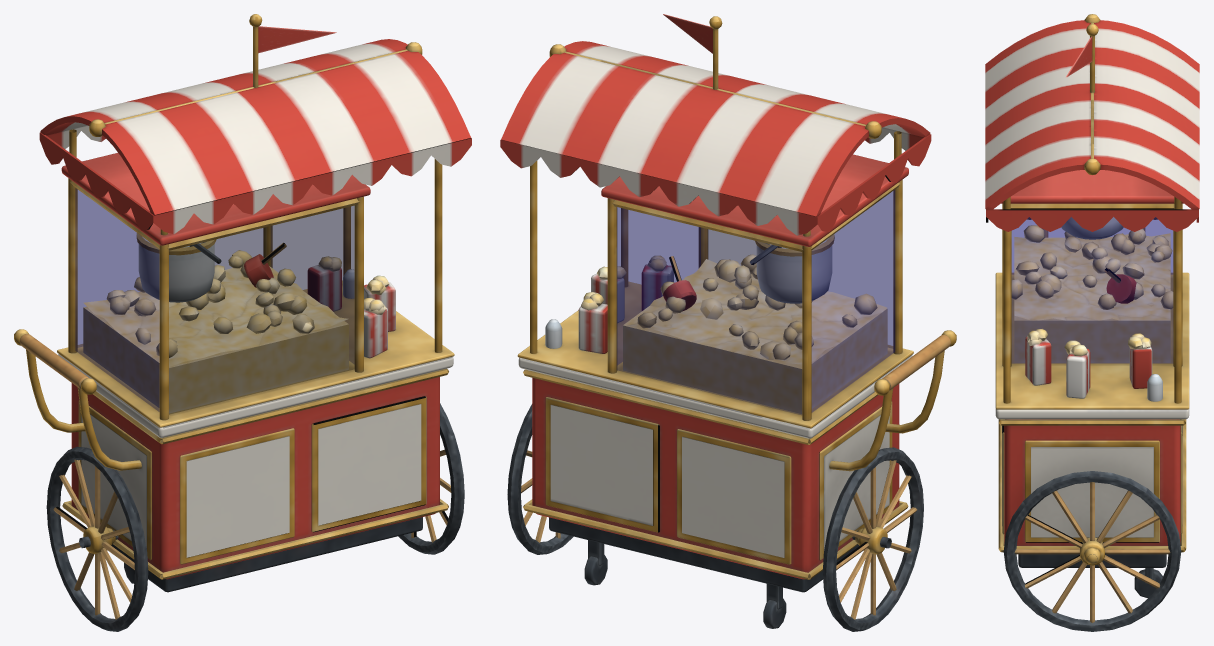
Rendered from popcorn-cart.fbx.
3 views of the same model, side by side, from view 1: azimuth 30°, elevation 25°; view 2: azimuth 150°, elevation 25°; view 3: azimuth 270°, elevation 25° (orthographic). The views are drawn at different scales.
Visible parts, largest first — view 1: Body, Anim Sway; view 2: Body, Anim Sway; view 3: Body, Anim Sway.
Boxes of the visible parts, <box> form: Body: <box>14,14,471,631</box>; Anim Sway: <box>258,26,336,53</box>; Body: <box>500,16,956,631</box>; Anim Sway: <box>663,14,712,53</box>; Body: <box>985,14,1199,631</box>; Anim Sway: <box>1066,36,1092,77</box>.
Size of the model in its own units: 1.45 by 2.07 by 0.753.
